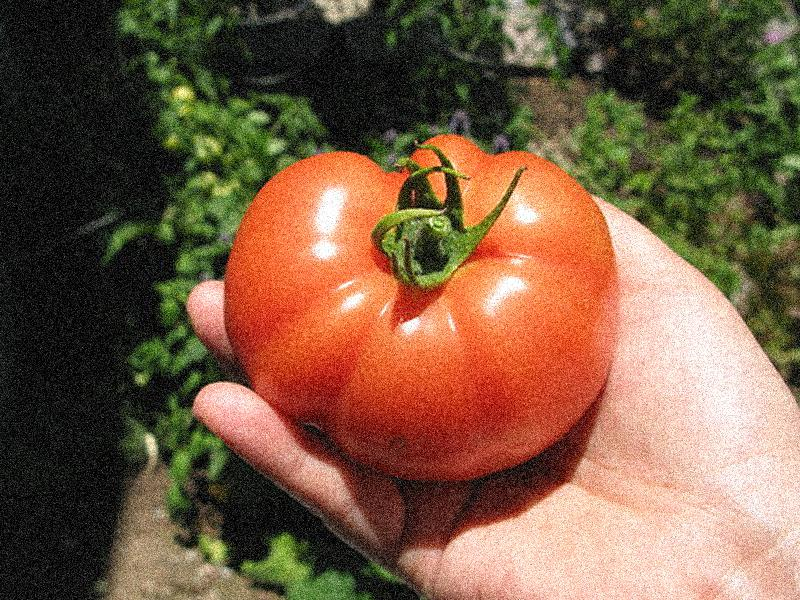Tomato: (223, 134, 615, 475)
